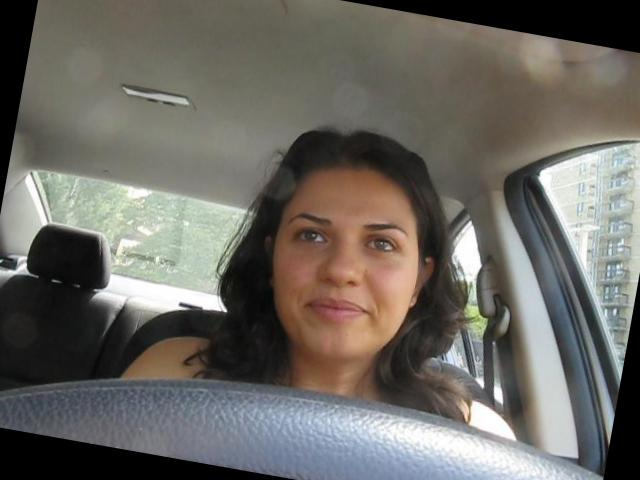eye_open: (288, 221, 334, 253), (360, 229, 405, 260)
face: (255, 178, 431, 372)
